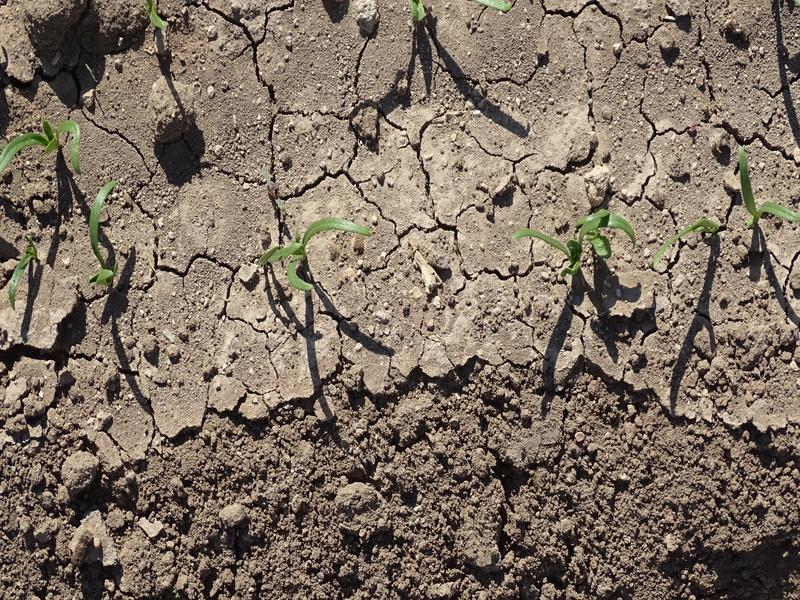Espinaca: (261, 215, 383, 289), (510, 213, 633, 272), (3, 120, 85, 177), (736, 147, 796, 224), (91, 177, 123, 285), (652, 214, 722, 261), (9, 237, 39, 298)
